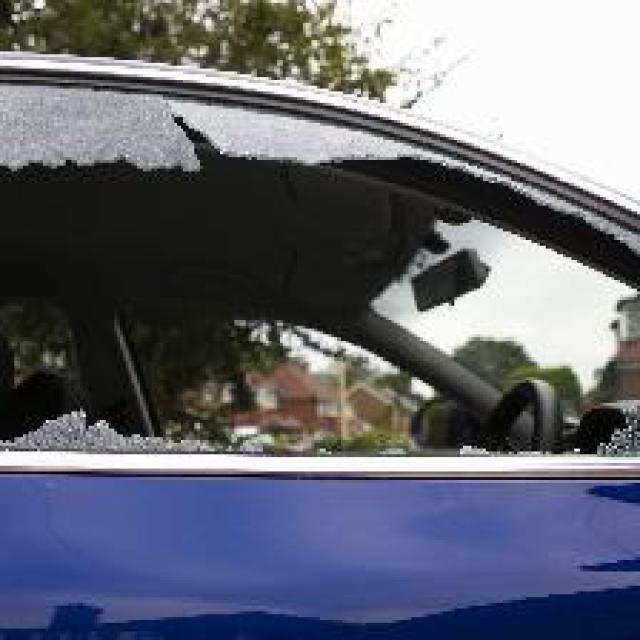glass_shatter_severe: (0, 83, 637, 434)
